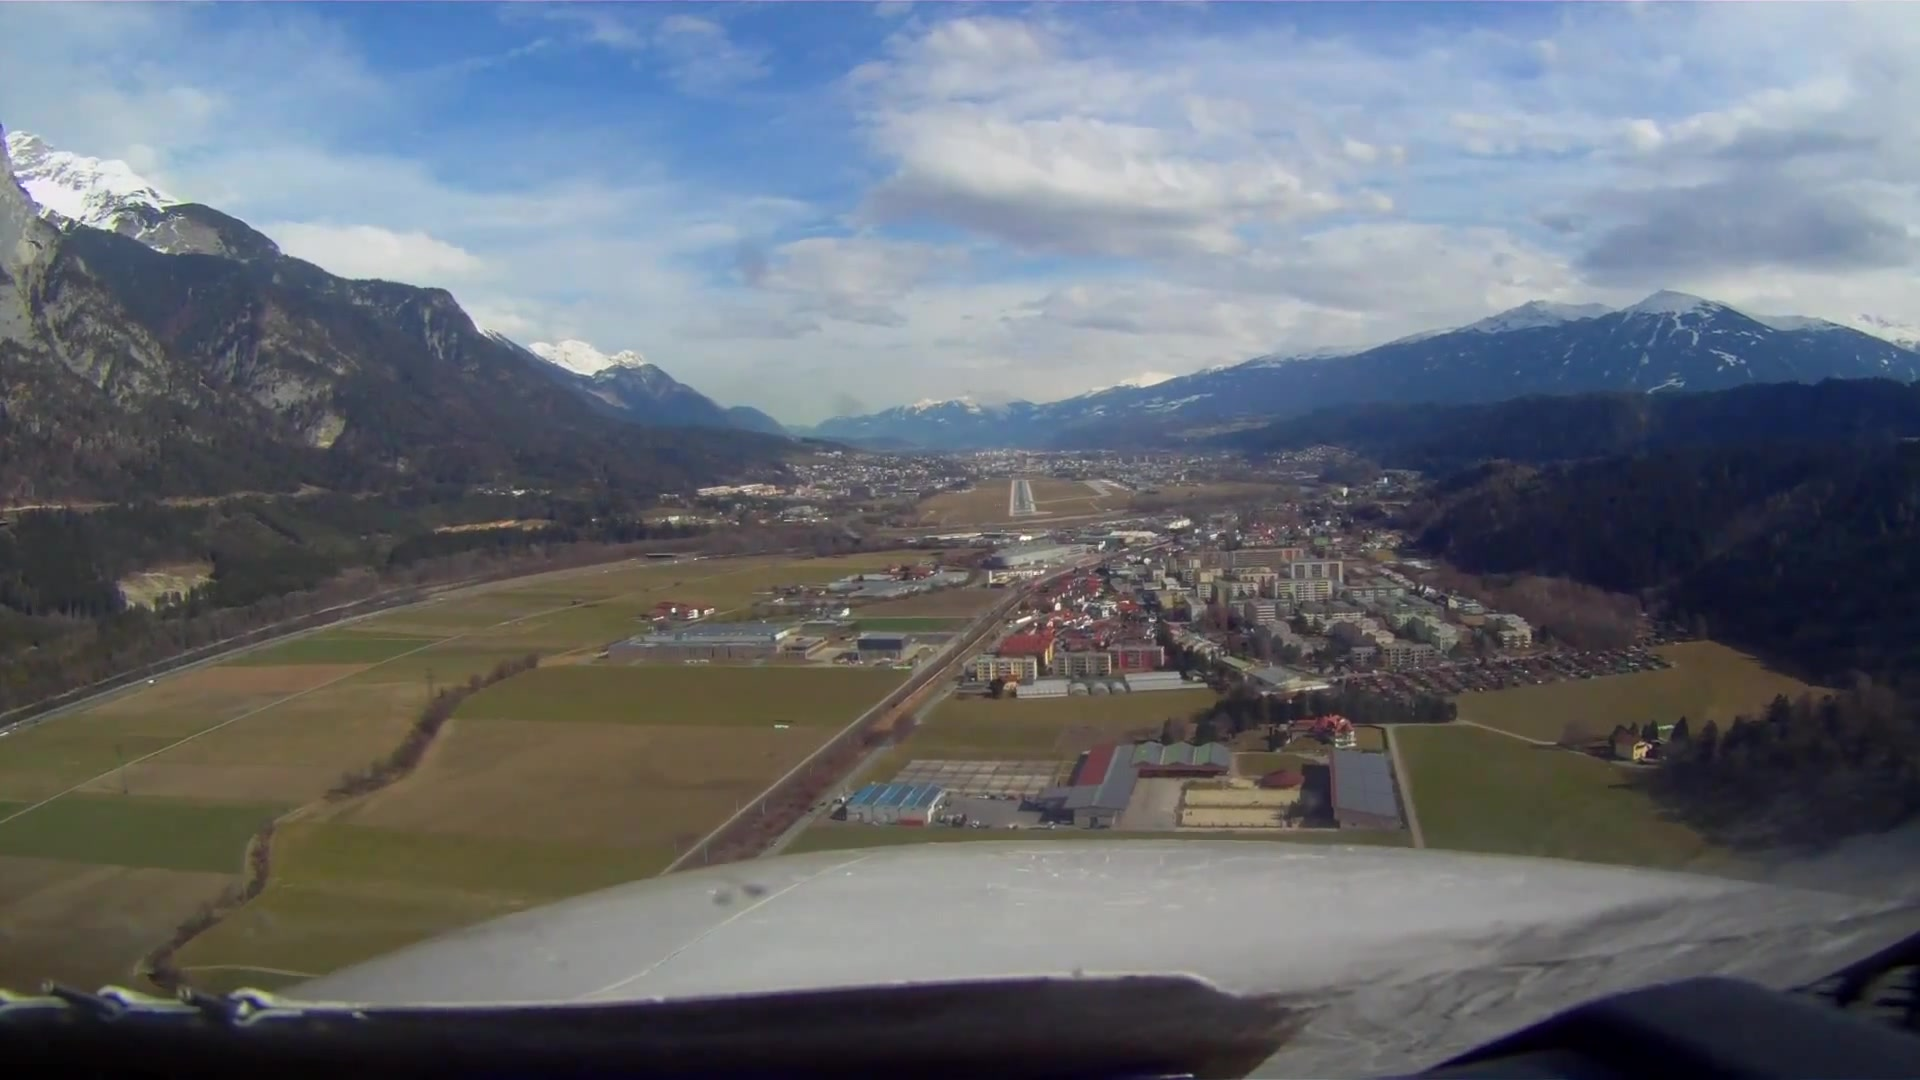runway: (1007, 477, 1036, 520)
